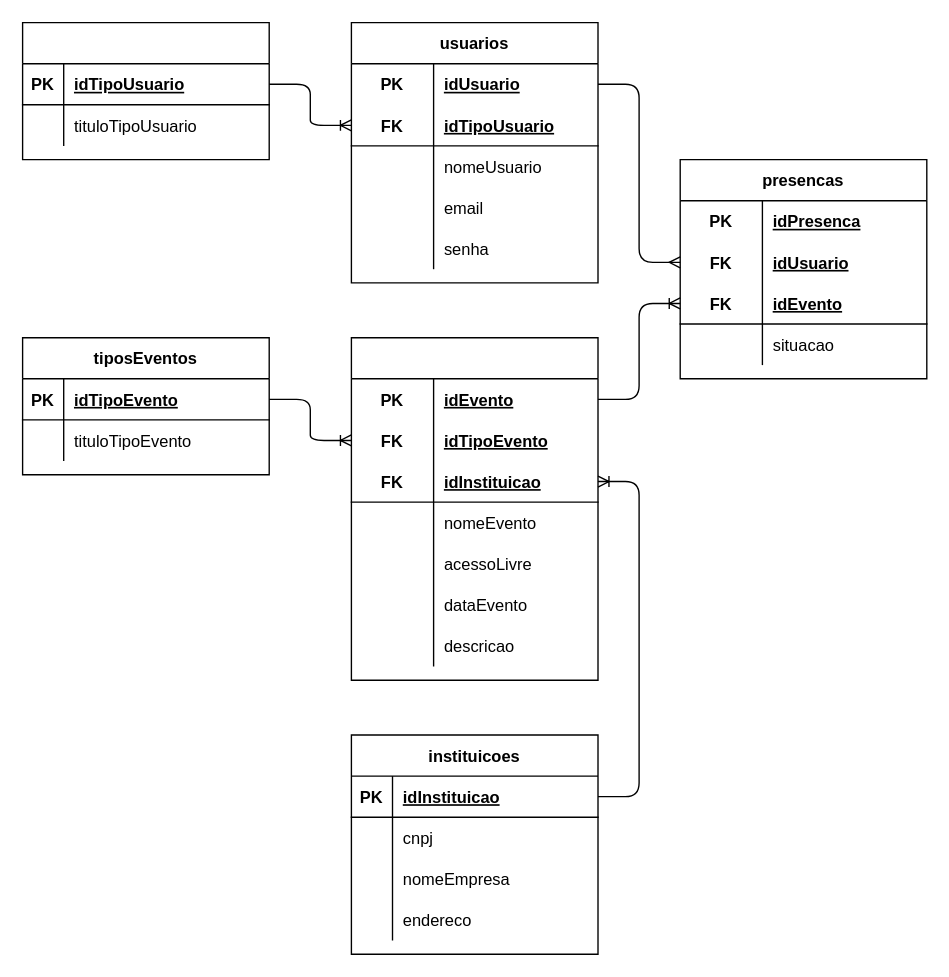
Some shapes in this 949 by 977 pixel diagram are drawn without their labels. The box of each missing label's shape, as (x1, y1, x2, y2) in pixels:
eventos: (350, 336, 598, 680)
tiposUsuarios: (21, 21, 269, 160)
